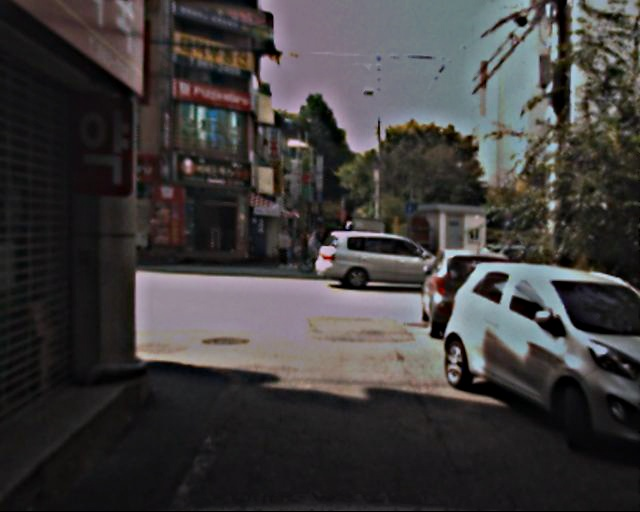person: (279, 225, 296, 266), (298, 227, 314, 267)
